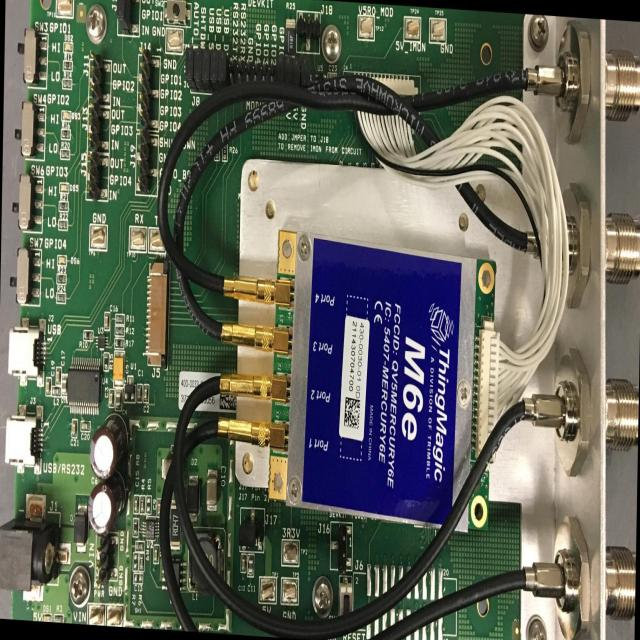Button: (163, 0, 191, 27)
Capacitor Jumper: (206, 468, 218, 511), (161, 458, 182, 478), (247, 554, 254, 577), (123, 289, 130, 311), (62, 373, 68, 398), (71, 418, 78, 438), (108, 389, 115, 408), (80, 419, 90, 432), (143, 383, 149, 404), (104, 310, 110, 331), (156, 498, 162, 518), (153, 543, 159, 563), (136, 383, 142, 402), (56, 366, 61, 386), (46, 376, 51, 396), (134, 494, 139, 514), (241, 552, 246, 572), (328, 72, 337, 78)
Connector: (546, 340, 640, 484), (548, 174, 640, 316), (552, 16, 640, 156), (543, 510, 636, 639), (0, 489, 72, 604), (472, 315, 500, 463), (221, 314, 292, 356), (223, 271, 294, 311), (145, 259, 170, 369), (5, 402, 42, 475), (218, 414, 289, 452), (8, 316, 45, 388), (220, 372, 294, 406), (342, 73, 420, 101), (136, 53, 160, 132), (228, 56, 276, 89), (135, 133, 159, 197), (329, 524, 354, 574), (89, 52, 111, 107), (86, 152, 109, 202), (96, 533, 118, 583), (88, 105, 110, 153), (297, 10, 320, 55), (256, 508, 266, 553)
Diode: (73, 504, 88, 552), (186, 474, 200, 522)
Electrolytic Capacitor: (90, 412, 128, 481), (87, 479, 125, 537), (114, 354, 125, 390)
IC: (290, 230, 473, 533), (67, 356, 102, 415), (142, 518, 160, 541), (124, 375, 136, 403), (95, 335, 108, 350), (318, 73, 324, 88)
Inductor: (188, 527, 225, 594), (52, 386, 62, 397)
Jumper: (117, 0, 140, 37), (239, 507, 256, 552), (185, 46, 197, 92), (193, 47, 205, 93), (218, 48, 230, 93), (202, 47, 213, 93), (210, 48, 221, 94), (300, 54, 310, 88), (283, 56, 292, 86), (291, 56, 300, 86), (276, 56, 284, 84)
Led: (56, 253, 67, 266), (59, 181, 69, 194), (61, 110, 71, 122), (64, 42, 74, 52), (42, 613, 52, 621)
Pads: (352, 562, 458, 640), (146, 494, 152, 515), (133, 551, 139, 572), (133, 573, 143, 584)
Resistor: (170, 500, 181, 549), (285, 18, 297, 56), (103, 352, 110, 372), (132, 518, 139, 538), (84, 329, 94, 342), (56, 292, 66, 305), (115, 325, 125, 337), (114, 338, 124, 350), (343, 36, 349, 56), (140, 494, 146, 514), (63, 60, 73, 72), (62, 77, 72, 89), (214, 140, 220, 160), (222, 142, 228, 162), (60, 148, 70, 160), (59, 200, 69, 212), (56, 273, 66, 285), (135, 541, 145, 552), (61, 129, 71, 140), (115, 312, 124, 324), (58, 220, 68, 230), (54, 613, 64, 622)
Switch: (16, 27, 48, 89), (12, 172, 43, 234), (14, 100, 45, 160), (10, 246, 41, 306), (338, 576, 353, 630)
Test Point: (89, 224, 108, 251), (258, 576, 276, 604), (284, 583, 302, 611), (283, 537, 300, 566), (358, 14, 375, 41), (429, 18, 447, 43), (404, 16, 421, 42), (87, 604, 106, 625), (106, 604, 124, 626)
Transistor: (161, 558, 187, 597)
